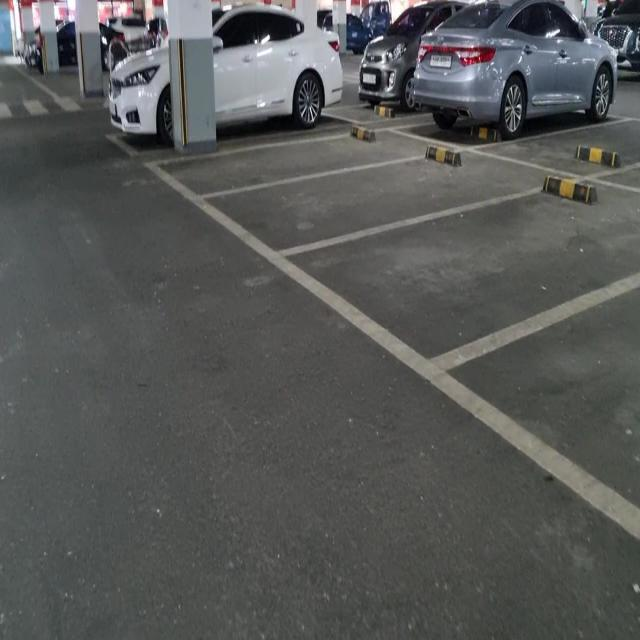Car: (107, 13, 334, 160)
Vacant: (275, 174, 640, 384), (199, 142, 552, 256), (145, 126, 433, 206)
